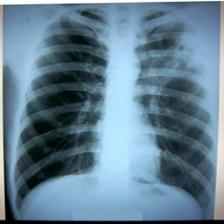tuberculosis: (8, 2, 217, 224)
